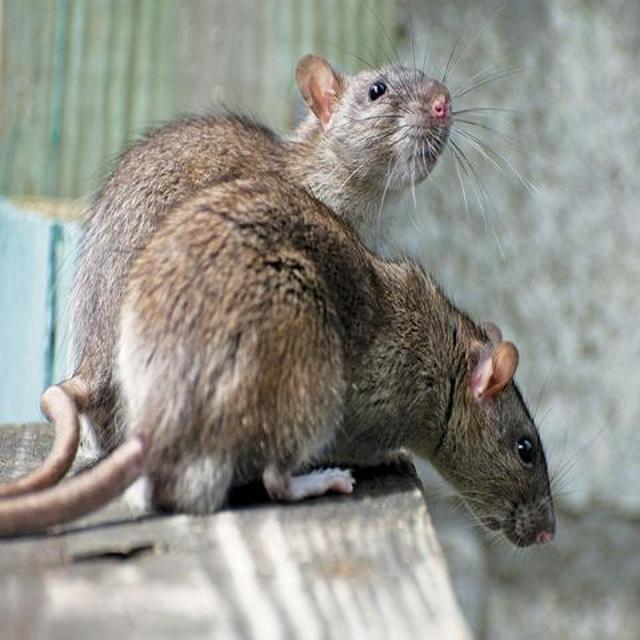rat: (118, 187, 560, 551), (118, 50, 459, 183)
